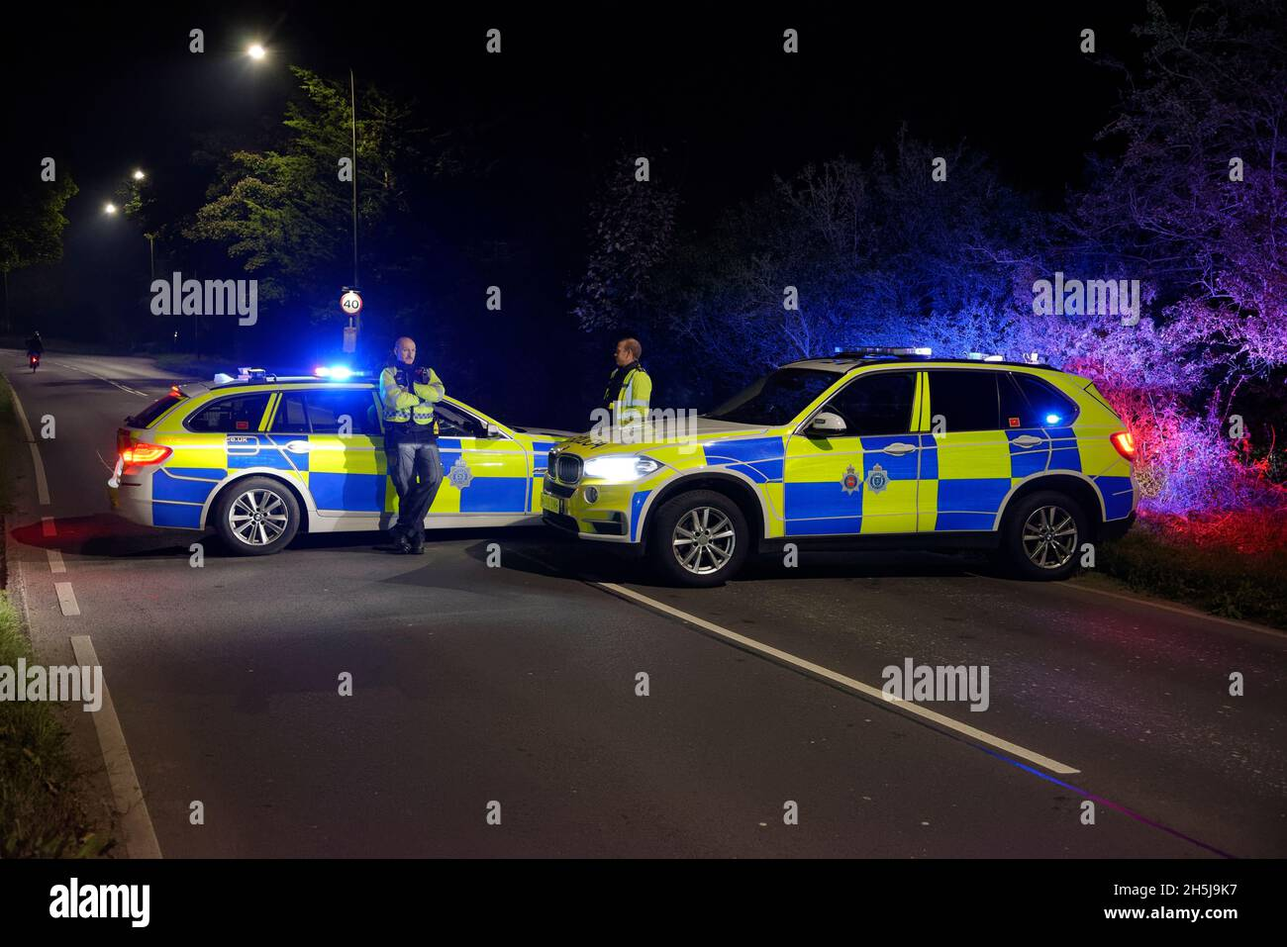Car: (563, 351, 1146, 577), (101, 359, 581, 533)
Person: (369, 329, 448, 558)
